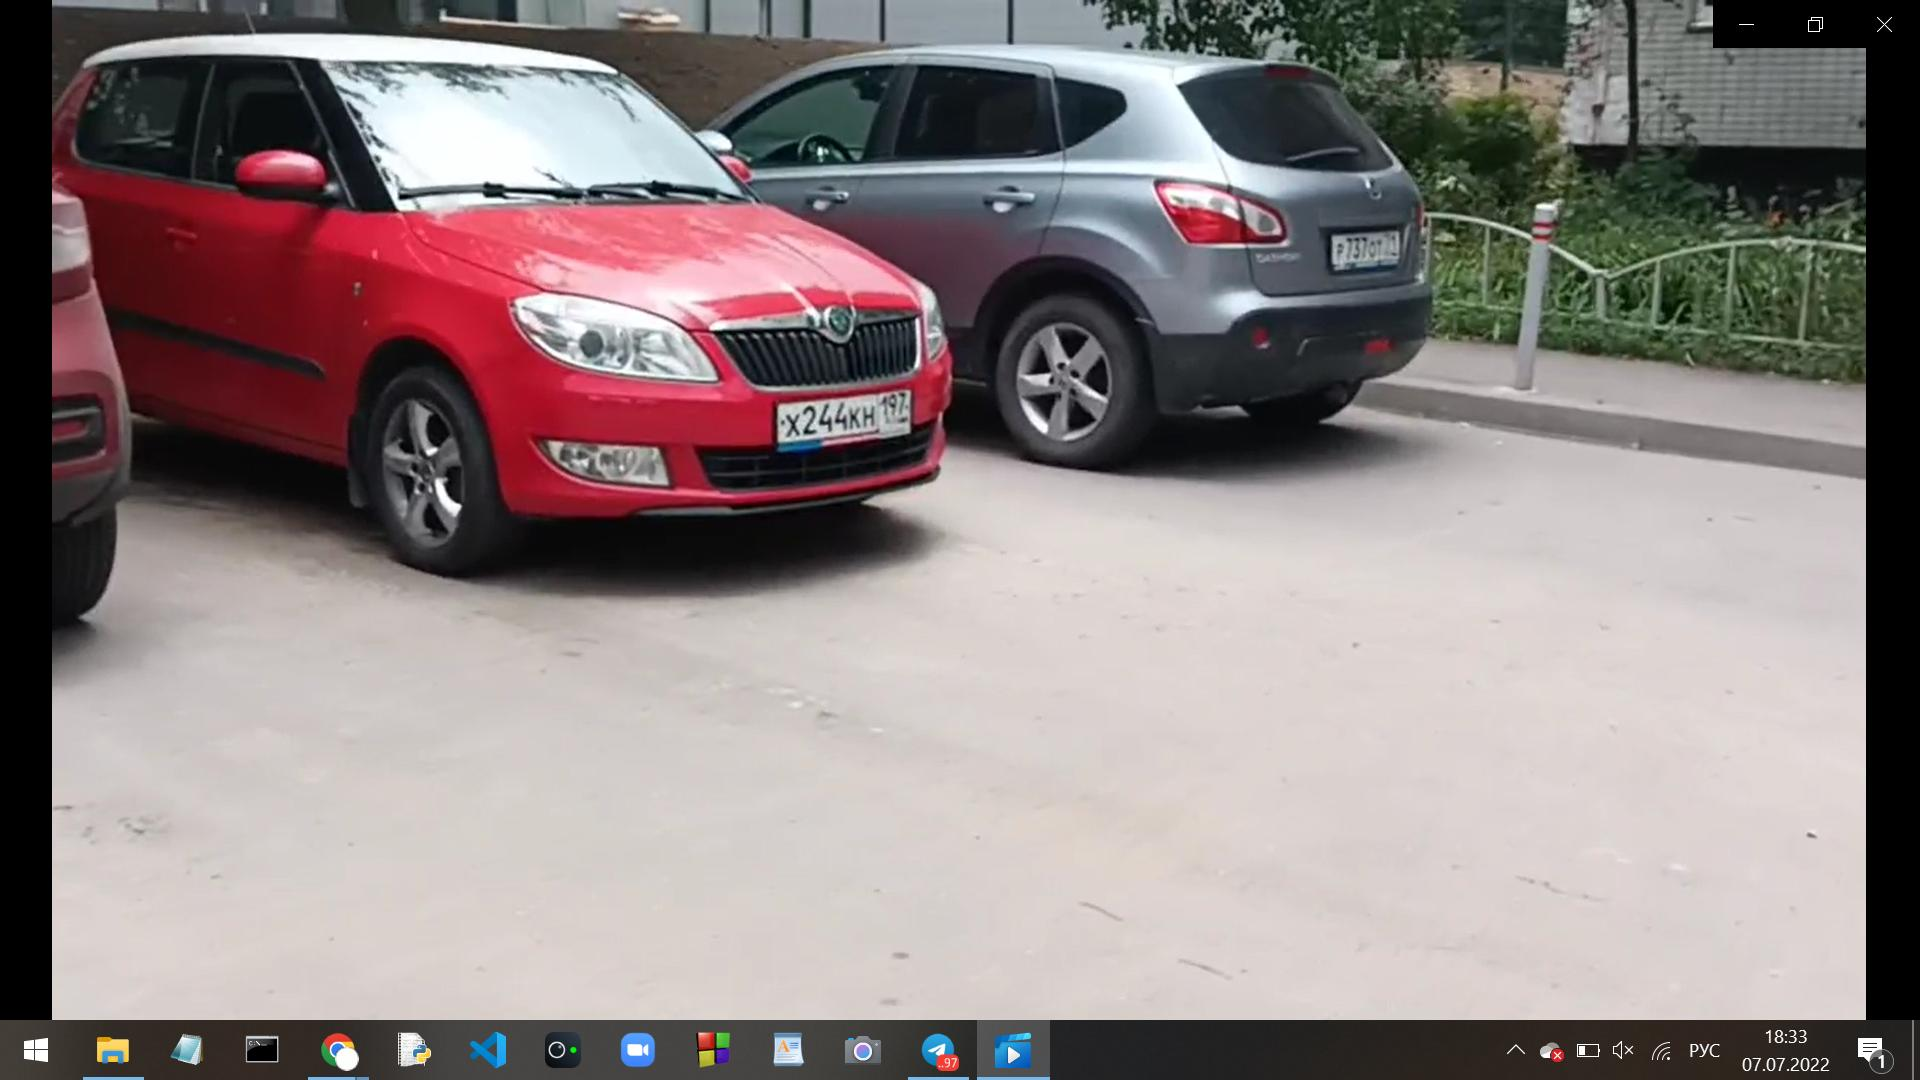plate: (782, 398, 917, 450), (1336, 236, 1401, 277)
